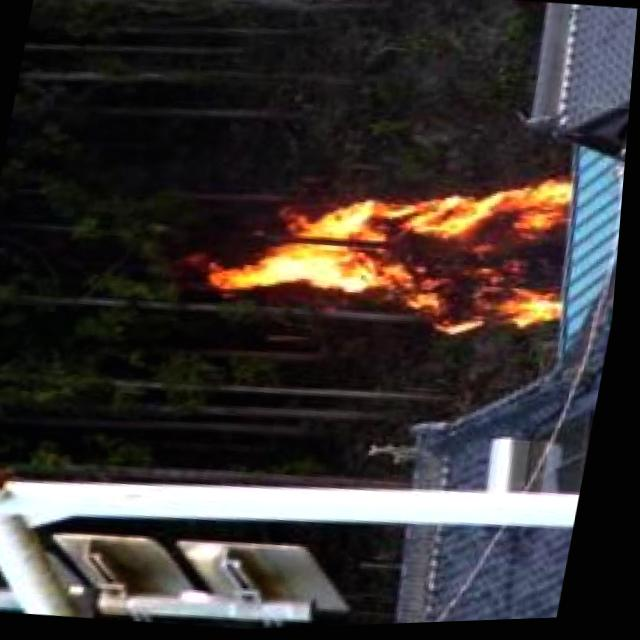Fire: (216, 160, 589, 354)
